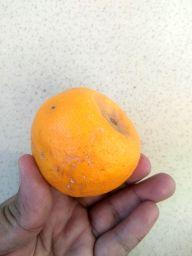Unripe: (31, 89, 143, 198)
